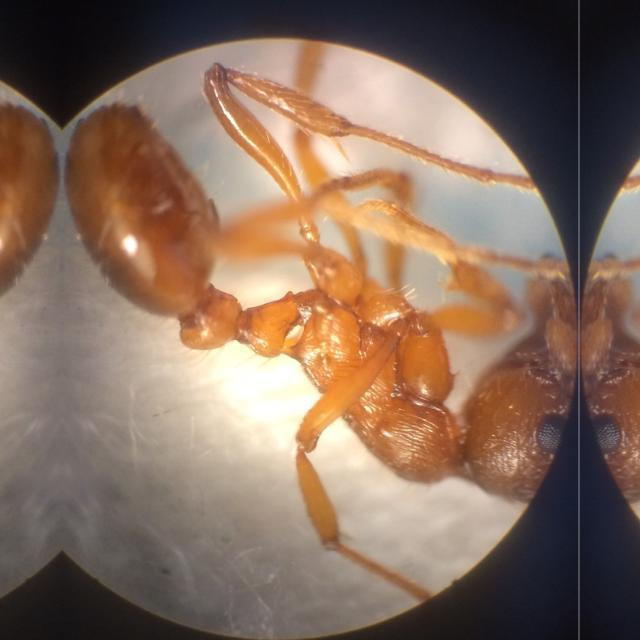Myrmica: (60, 32, 578, 570)
